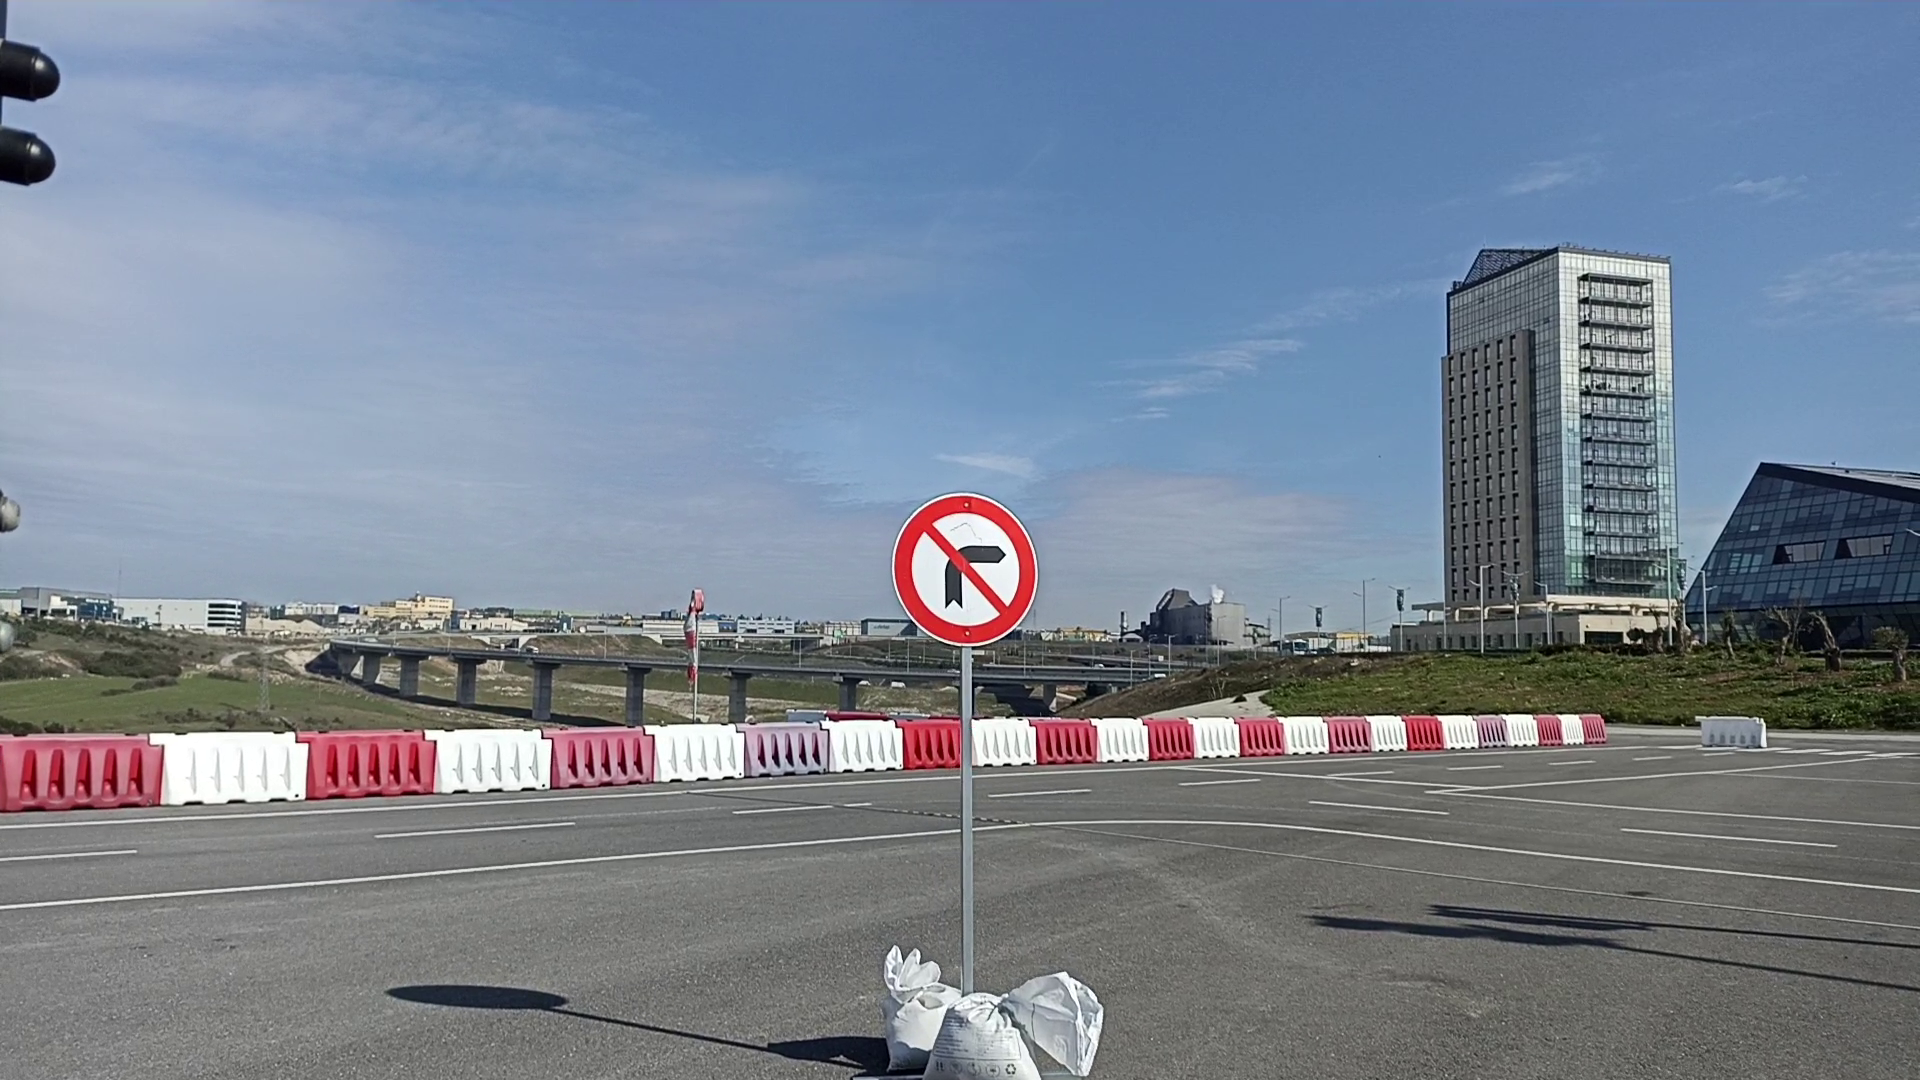noleftturn: (889, 491, 1042, 651)
